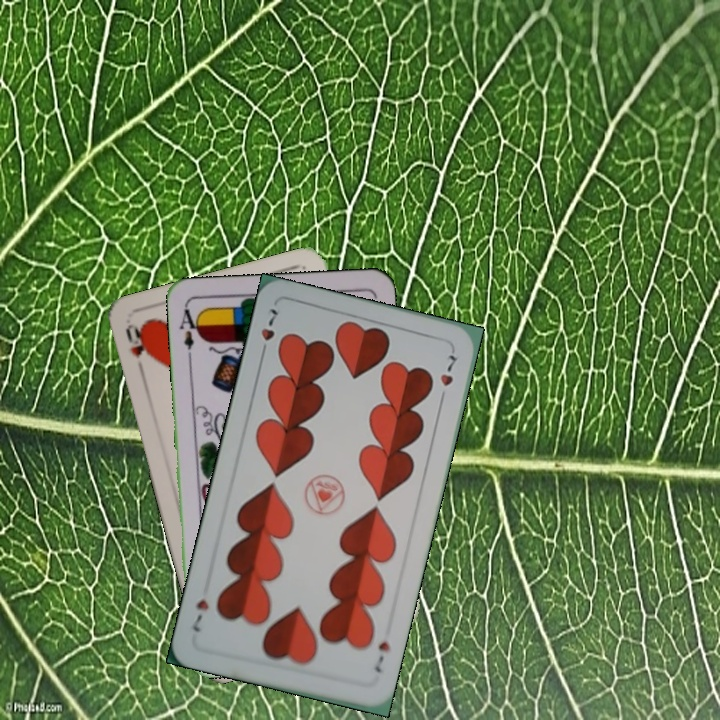EA: (175, 303, 203, 352)
H7: (256, 304, 280, 360), (370, 636, 393, 675)
HO: (121, 320, 153, 377)
